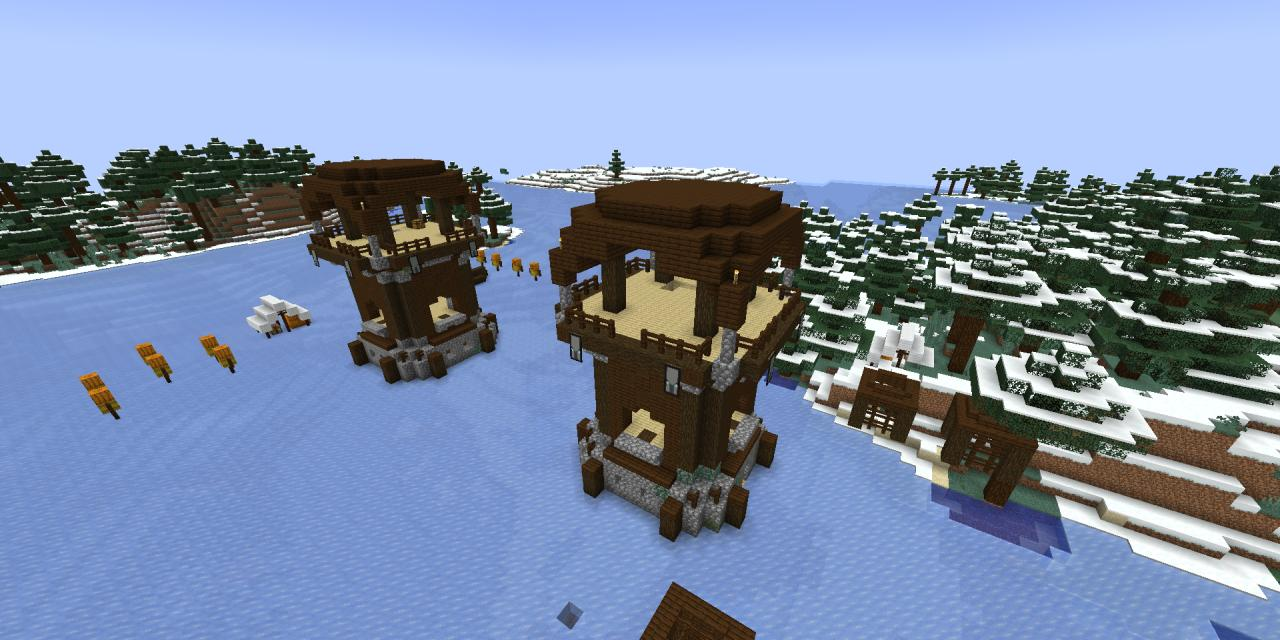pillager outpost: (550, 158, 810, 542), (297, 149, 509, 389)
